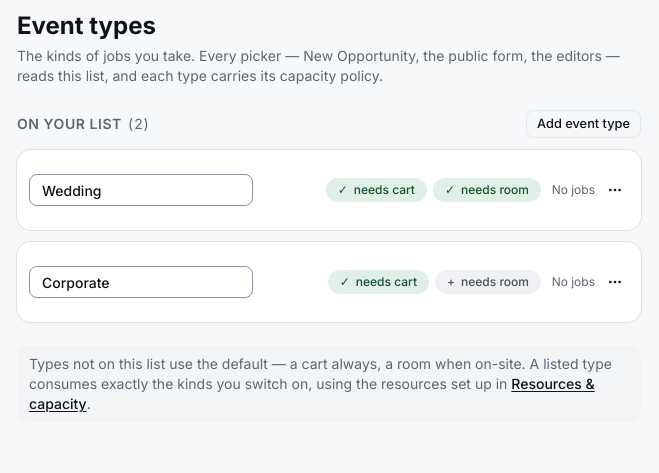
Scenario: EventTypesClient › still serializes writes: a click on another row mid-flight is dropped, not interleaved
The width and height of the screenshot is (659, 473).
Click the button with aria-label "Wedding — needs room" at {"x": 487, "y": 190}, box 433,178 -> 541,202
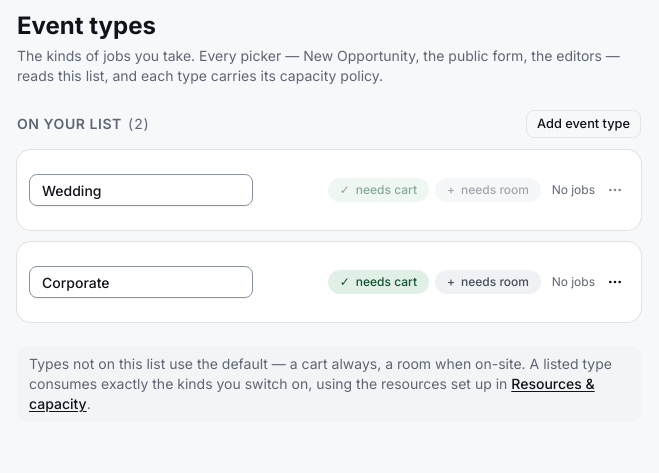
Click the button with aria-label "Corporate — needs room" at {"x": 488, "y": 282}, box 435,270 -> 541,294
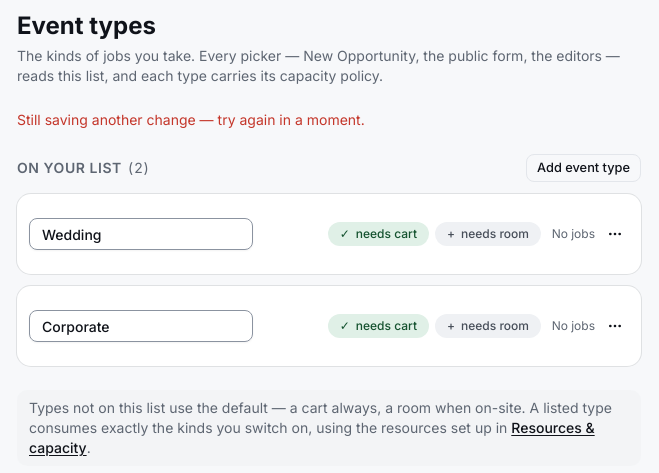
Check: the button with aria-label "Wedding — needs cart" is enabled, box 328,222 -> 429,246
